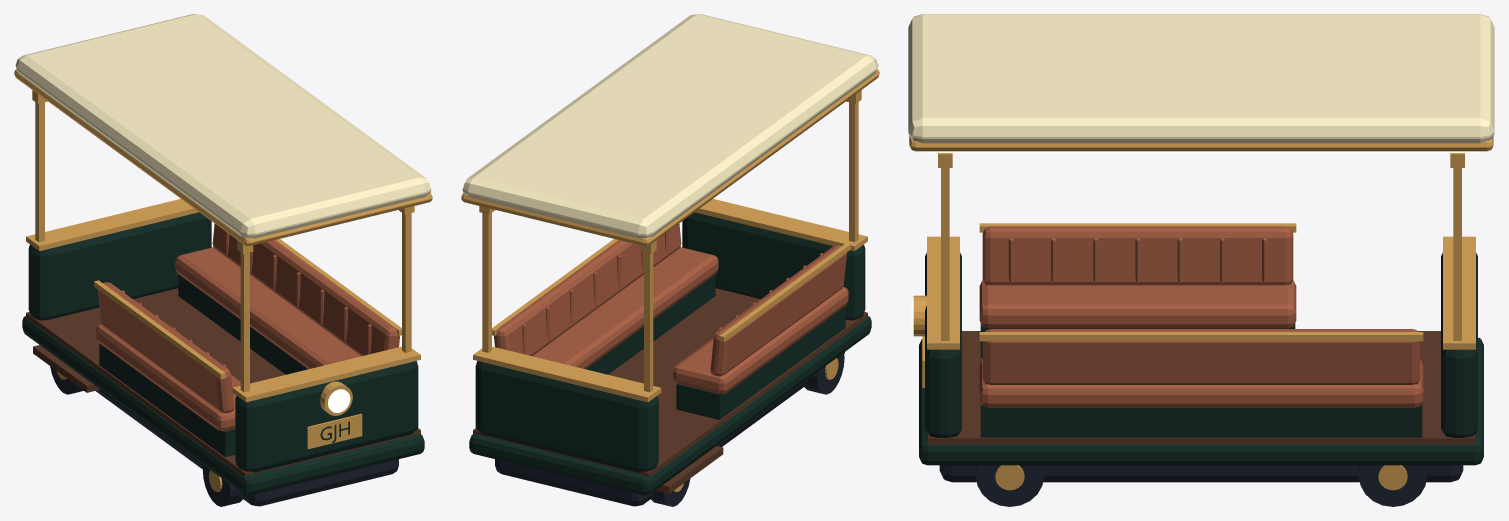
The model's file is detailed.glb.
The picture shows the model from 3 angles, left to right: view 1: azimuth 30°, elevation 25°; view 2: azimuth 150°, elevation 25°; view 3: azimuth 270°, elevation 25°; orthographic projection. The views are drawn at different scales.
Parts seen in each view (by area): view 1: SightseeingCarriage; view 2: SightseeingCarriage; view 3: SightseeingCarriage.
Part boxes in pixels (<box>): SightseeingCarriage: <box>14,14,432,506</box>; SightseeingCarriage: <box>461,14,879,506</box>; SightseeingCarriage: <box>908,14,1494,506</box>.
Size of the model in its own units: 1.4 by 2.2 by 3.
Materials: 1 (1 with a texture image).
